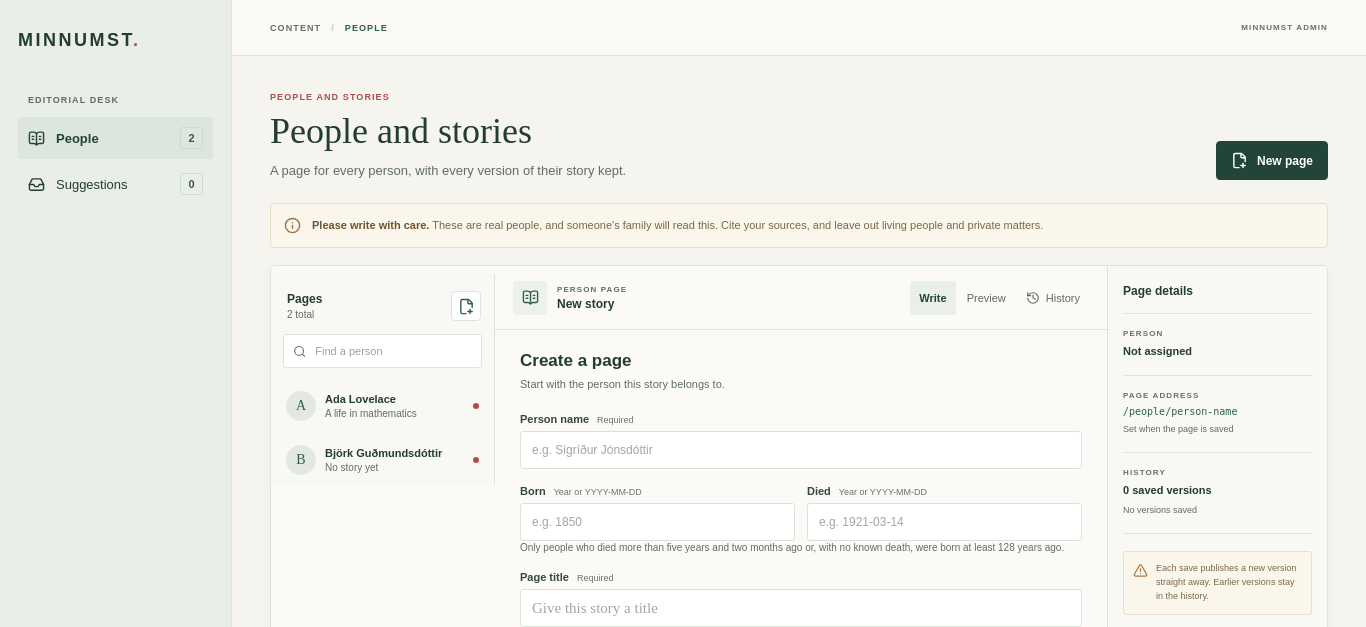
Test: story page editor › ignores history that arrives after another page was selected
The image size is (1366, 627).
Click the button "A Ada Lovelace A life in mathematics" at point(382, 406), box x1=278 y1=380 x2=487 y2=431
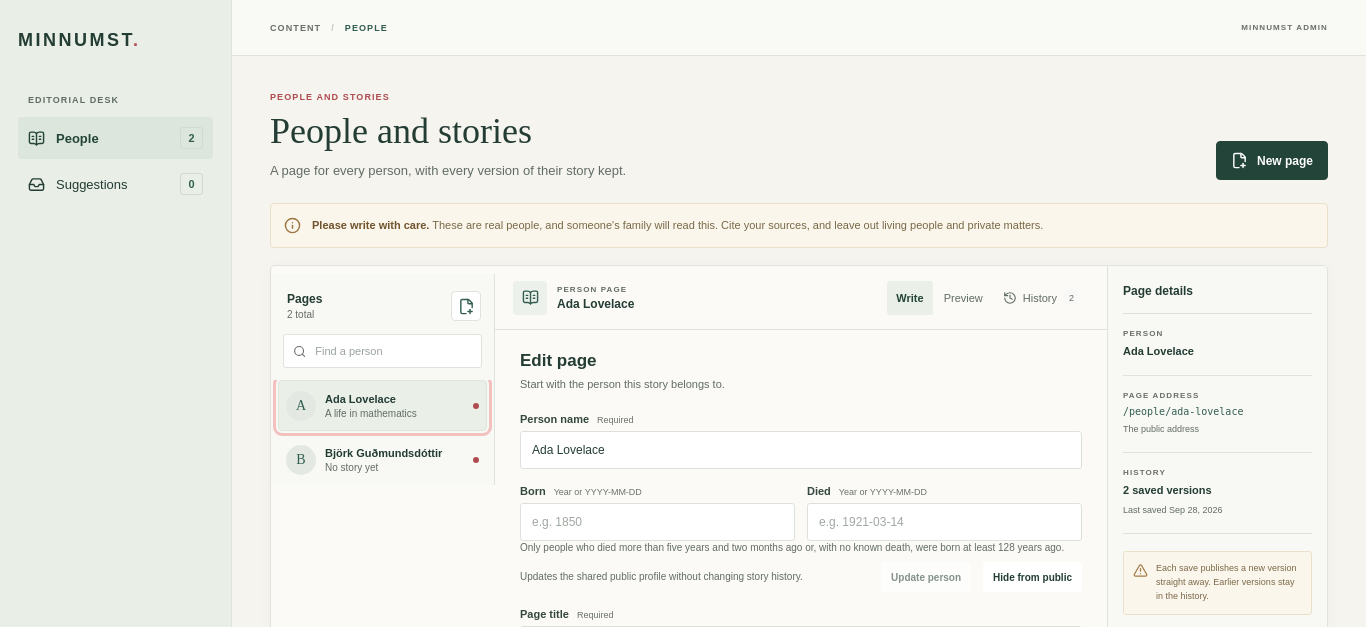
Click the button "New page" at point(1272, 161), box x1=1216 y1=141 x2=1328 y2=180
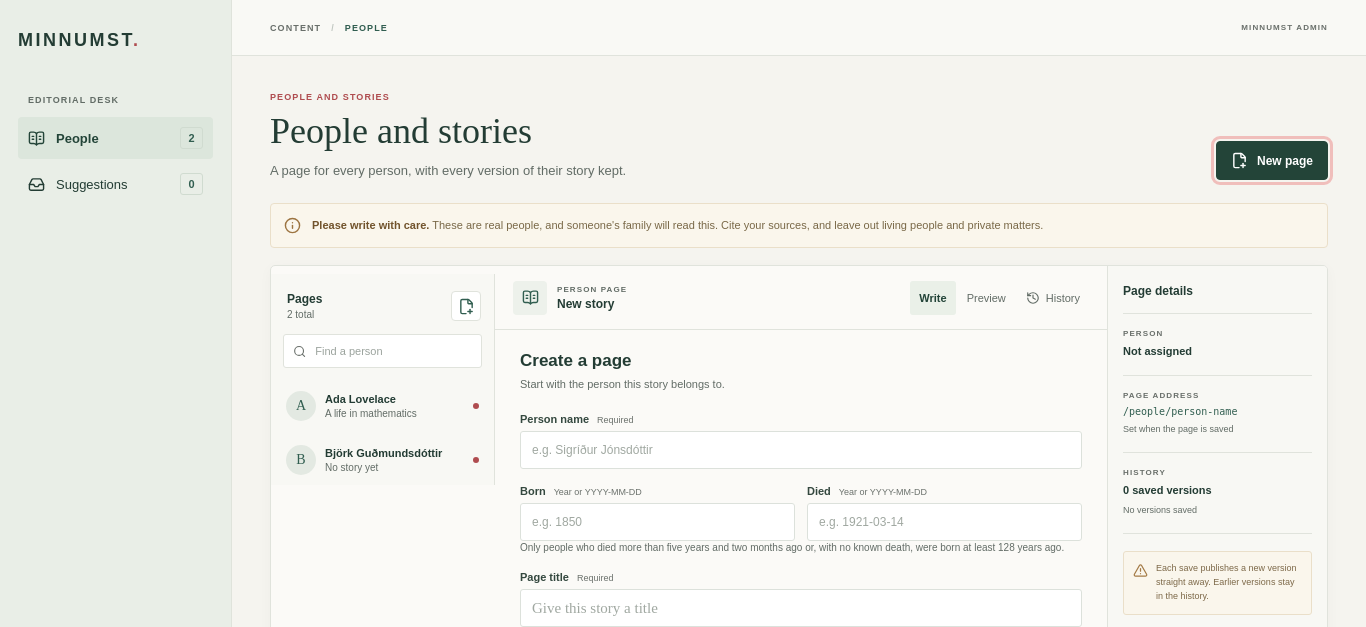
// The stale history was not kept, so selecting Ada again reloads it.
Click the button "A Ada Lovelace A life in mathematics" at point(382, 406), box x1=278 y1=380 x2=487 y2=431
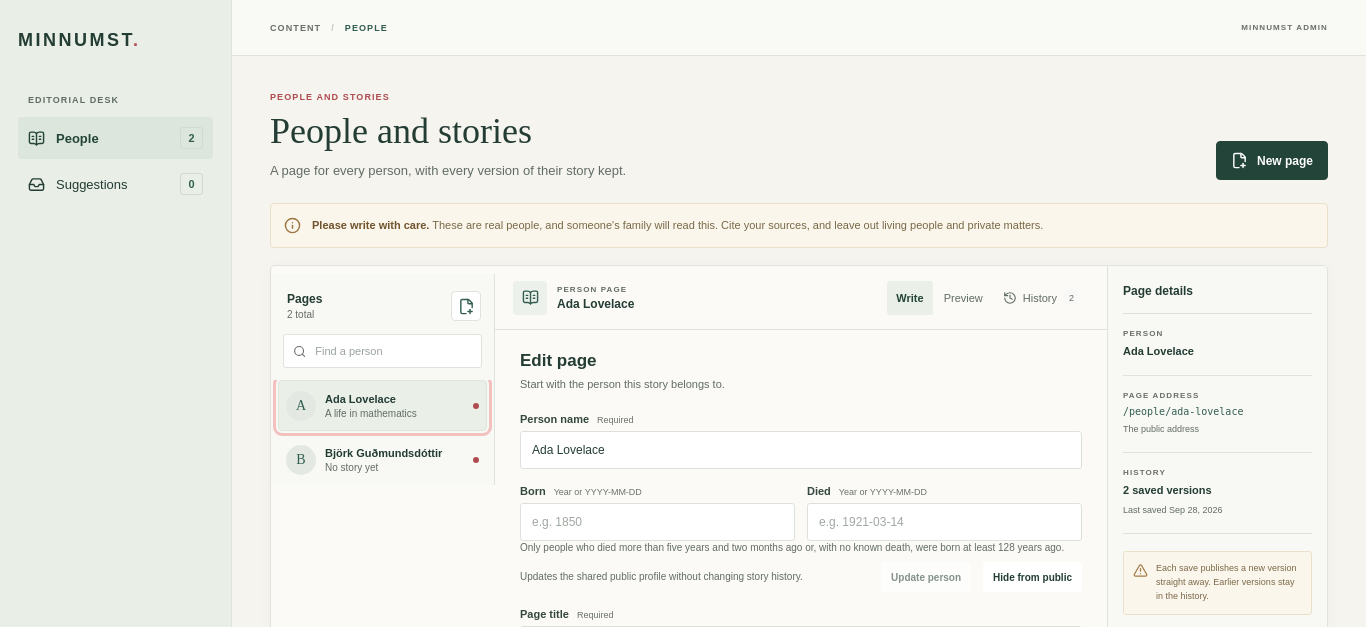
Click the button "B Björk Guðmundsdóttir No story yet" at point(382, 460), box x1=278 y1=434 x2=487 y2=485
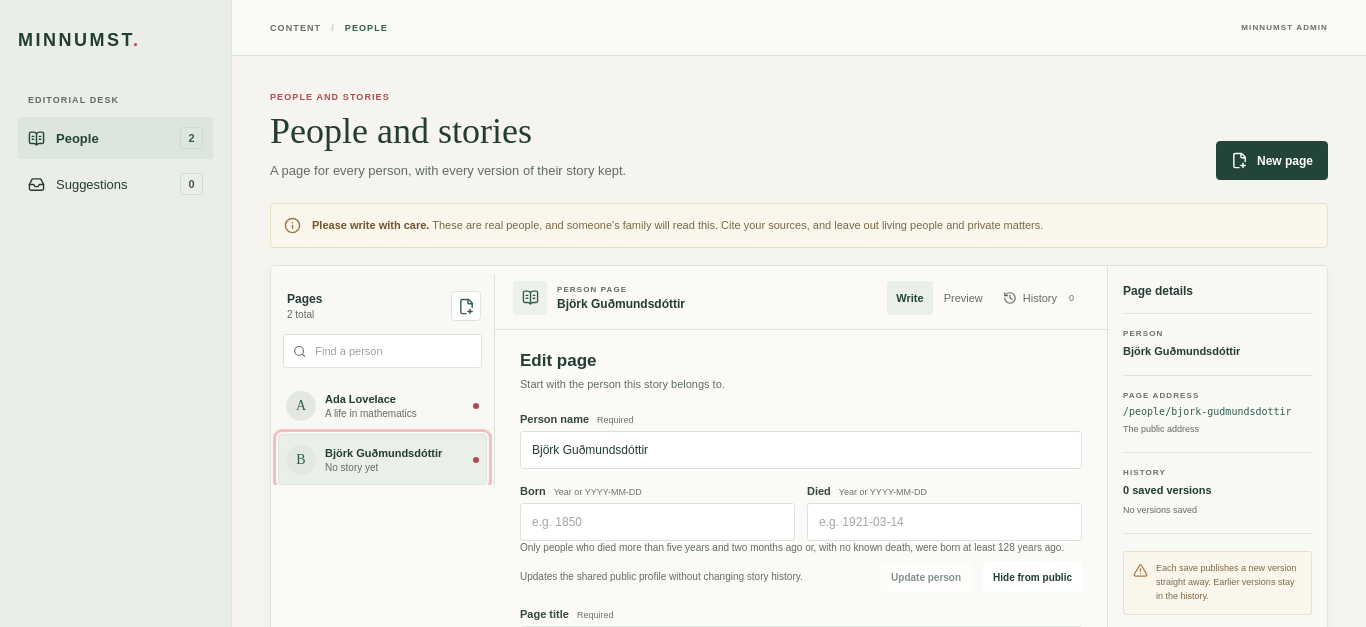
Result: the field labelled "Person name Required" holds "Björk Guðmundsdóttir" at x1=520 y1=431 x2=1082 y2=469
